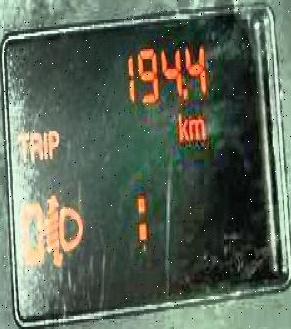-: (181, 87, 186, 98)
0: (20, 200, 42, 264)
1: (125, 51, 134, 102)
4: (182, 42, 205, 93), (159, 44, 180, 95)
9: (136, 46, 157, 102)
X: (135, 193, 145, 240), (187, 115, 205, 140), (16, 131, 29, 162), (28, 131, 41, 160), (176, 109, 187, 140), (46, 129, 57, 158), (41, 129, 46, 158)
